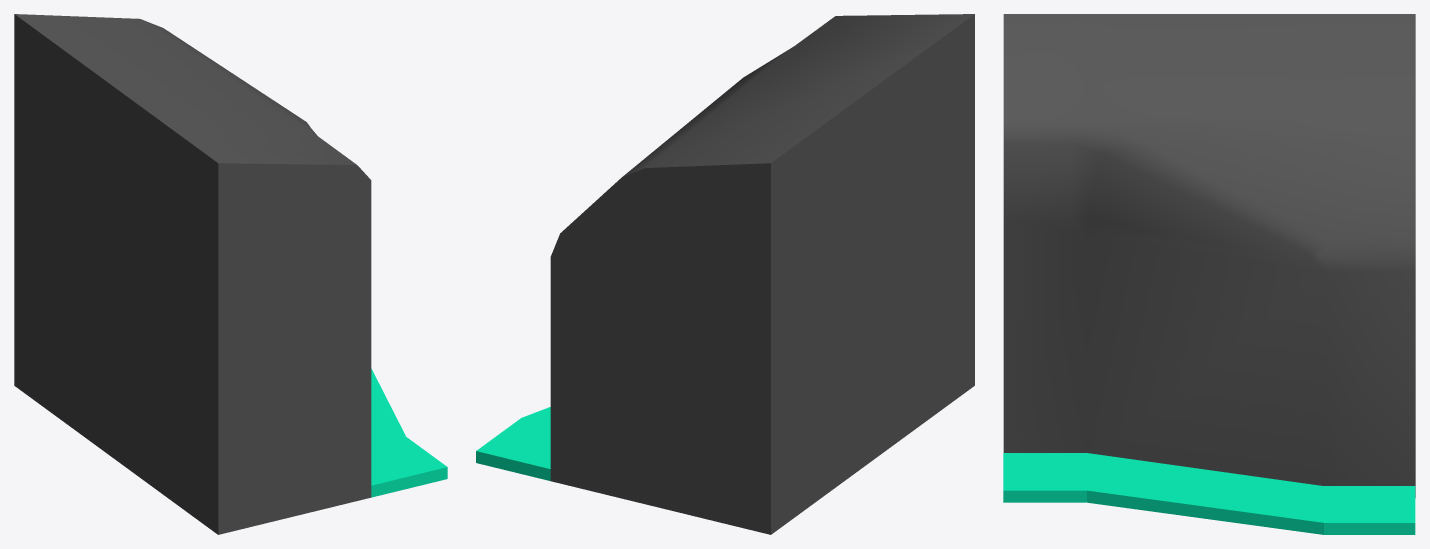
The model's file is CorridorDownPillar_05.fbx.
3 renders of one model, left to right at view 1: azimuth 30°, elevation 25°; view 2: azimuth 150°, elevation 25°; view 3: azimuth 270°, elevation 25°, orthographic.
Parts seen in each view (by area): view 1: Box070, CorridorDownPillar_05; view 2: Box070, CorridorDownPillar_05; view 3: Box070, CorridorDownPillar_05.
Part boxes in pixels (x1,y1,x2,y2): Box070: (14,14,371,534); CorridorDownPillar_05: (371,368,447,497); Box070: (550,14,974,534); CorridorDownPillar_05: (476,407,550,480); Box070: (1003,14,1415,497); CorridorDownPillar_05: (1003,453,1415,534).
Size of the model in its own units: 32.88 by 39.38 by 39.61.
